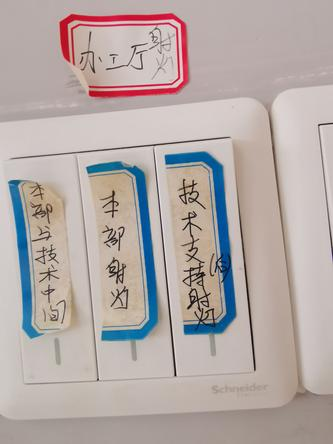switch: (150, 131, 258, 385), (70, 142, 183, 381), (4, 147, 100, 388)
